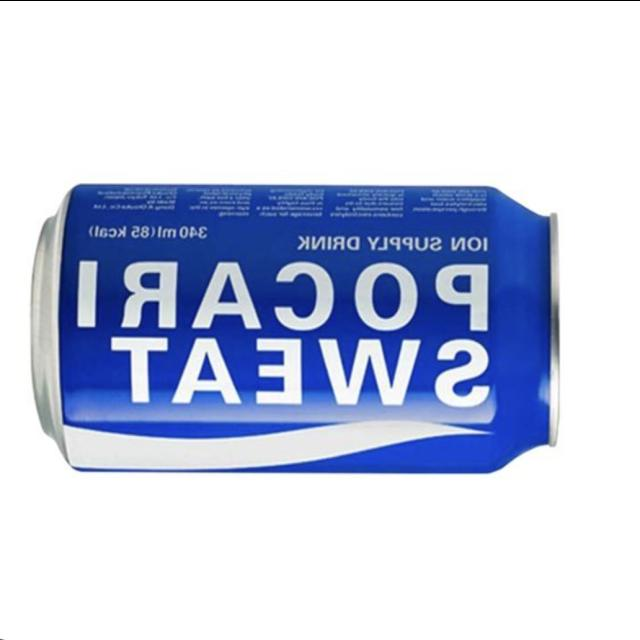can: (18, 144, 596, 508)
